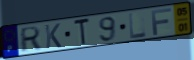9: (98, 16, 118, 42)
F: (150, 7, 173, 37)
K: (44, 22, 63, 50)
L: (128, 11, 148, 40)
R: (20, 25, 43, 54)
T: (73, 16, 91, 47)
